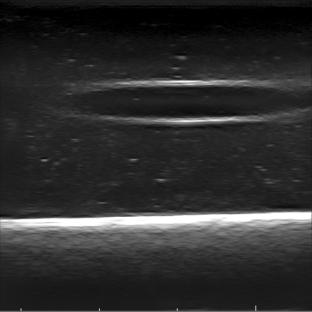vessel: (72, 78, 301, 126)
